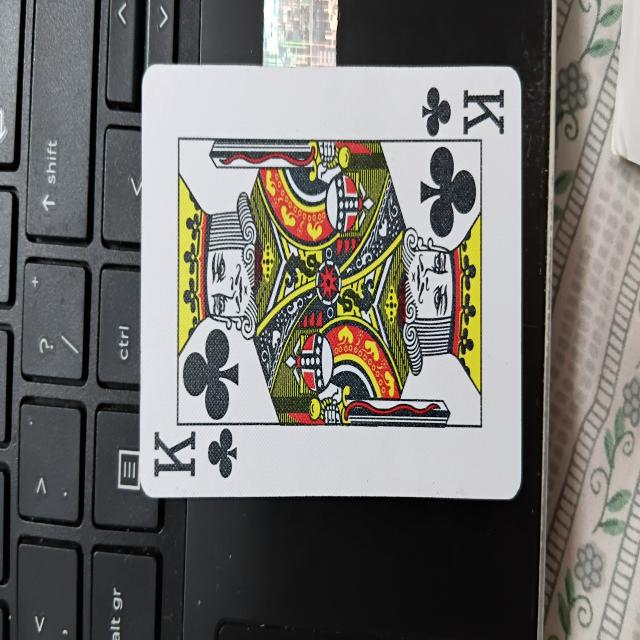KC: (139, 61, 522, 502)
